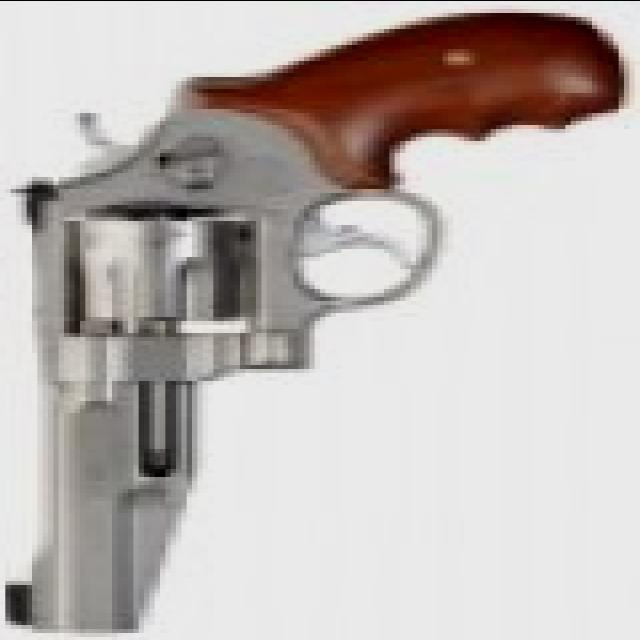handgun: (11, 20, 629, 628)
